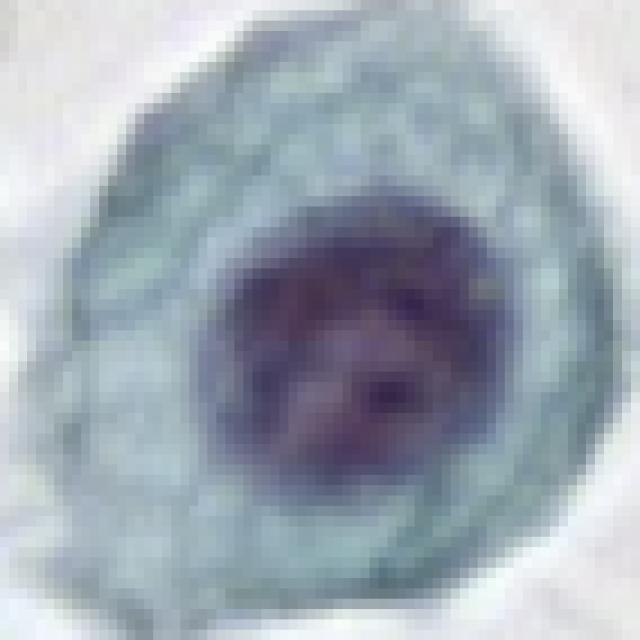cytoplasm: (0, 5, 631, 630)
nucleus: (138, 121, 585, 578)
